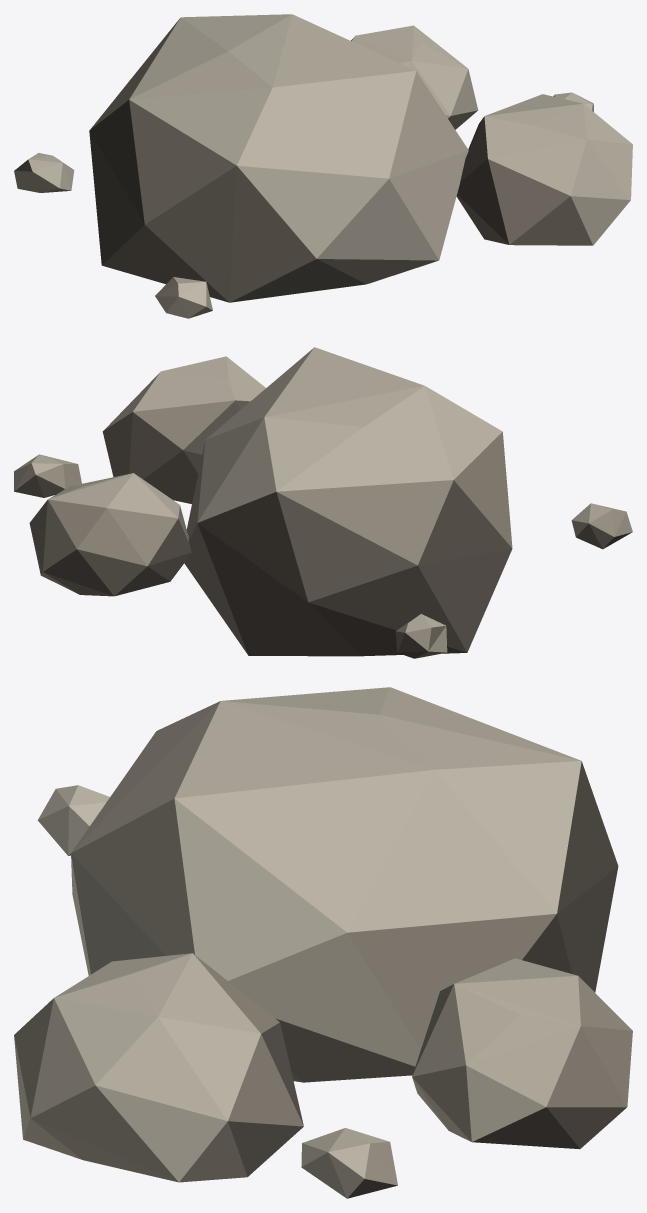
File: stone_bigGroup.glb
3 renders of one model, top to bottom at view 1: azimuth 30°, elevation 25°; view 2: azimuth 150°, elevation 25°; view 3: azimuth 270°, elevation 25°, orthographic. The views are drawn at different scales.
Parts seen in each view (by area): view 1: stone_bigGroup.002; view 2: stone_bigGroup.002; view 3: stone_bigGroup.002.
Boxes of the visible parts, x1,y1,x2,y2 form: stone_bigGroup.002: [14, 14, 632, 318]; stone_bigGroup.002: [14, 347, 632, 658]; stone_bigGroup.002: [14, 687, 632, 1198].
Size of the model in its own units: 0.9 by 0.3234 by 0.6147.
